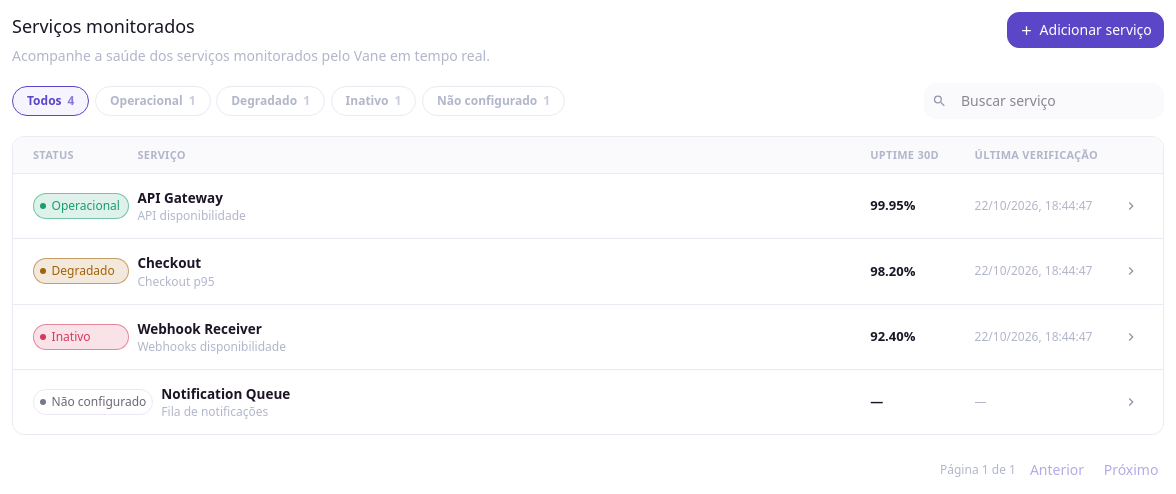
it: ServiceListPage › shows the empty state when no service matches the filter/search (SVC-12)
expect the text "API Gateway" is shown: met, box [137,188,223,208]
Type "serviço que não existe" into the field with placeholder "Buscar serviço" at (1044, 101), box [924,83,1164,119]
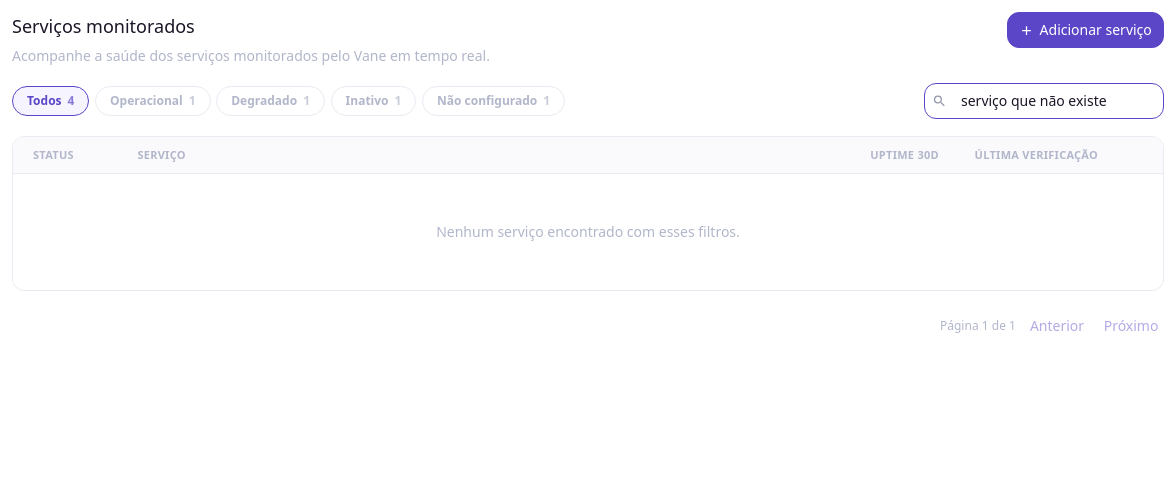
expect the text "Nenhum serviço encontrado com esses filtros." is shown: met, box [436,222,740,241]
